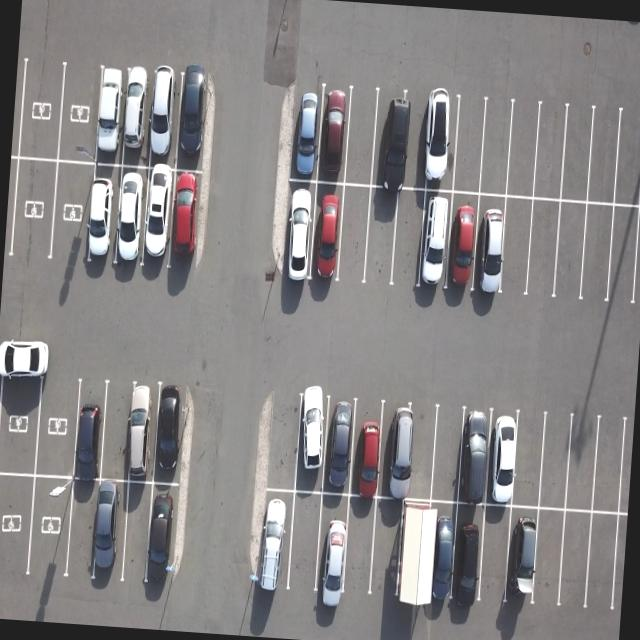car: (252, 486, 298, 598), (415, 502, 459, 614), (447, 502, 491, 612), (312, 488, 355, 598), (368, 86, 414, 188), (91, 480, 134, 586), (306, 182, 349, 288), (452, 408, 497, 508), (468, 193, 510, 300), (136, 164, 178, 271), (166, 168, 210, 270), (376, 402, 421, 501), (144, 484, 186, 590), (282, 176, 322, 287), (80, 160, 121, 268), (502, 502, 544, 606), (438, 190, 479, 296), (112, 162, 152, 270), (344, 399, 388, 497), (415, 189, 456, 293), (150, 383, 192, 484), (319, 396, 362, 494), (70, 376, 110, 481), (120, 382, 161, 484), (480, 408, 522, 506), (420, 94, 461, 194), (290, 396, 332, 492), (316, 85, 355, 188), (142, 69, 180, 169), (91, 66, 128, 168), (175, 69, 212, 169), (290, 83, 326, 184), (120, 70, 155, 168)
free: (34, 368, 84, 478), (9, 154, 57, 264), (48, 158, 96, 268), (25, 476, 75, 580), (15, 55, 63, 161), (390, 499, 434, 608), (57, 61, 103, 165), (285, 490, 328, 600), (472, 499, 516, 606), (526, 508, 570, 612), (337, 496, 379, 602), (0, 364, 39, 478), (553, 506, 595, 608), (582, 512, 624, 614), (98, 380, 140, 482), (262, 395, 305, 494), (342, 85, 384, 186), (385, 188, 427, 289), (334, 184, 374, 288), (496, 194, 536, 298), (116, 482, 156, 586), (576, 200, 616, 304), (362, 496, 402, 600), (424, 405, 466, 503), (359, 187, 400, 287), (560, 414, 601, 514), (525, 197, 565, 299), (511, 410, 552, 509), (551, 197, 590, 300), (590, 416, 630, 516), (535, 412, 576, 509), (64, 478, 102, 580), (447, 98, 486, 196), (583, 106, 622, 204), (532, 105, 571, 201), (502, 102, 540, 199), (477, 98, 515, 194), (558, 107, 596, 203), (402, 405, 440, 501), (399, 92, 434, 196), (606, 203, 640, 309), (0, 472, 32, 579), (613, 107, 640, 205)
